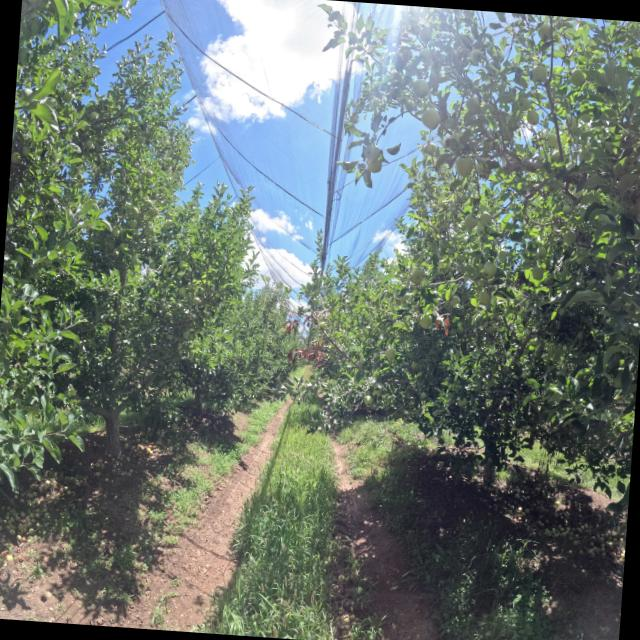-FireBlight-: (286, 339, 326, 366), (281, 314, 298, 336), (302, 314, 318, 328)
